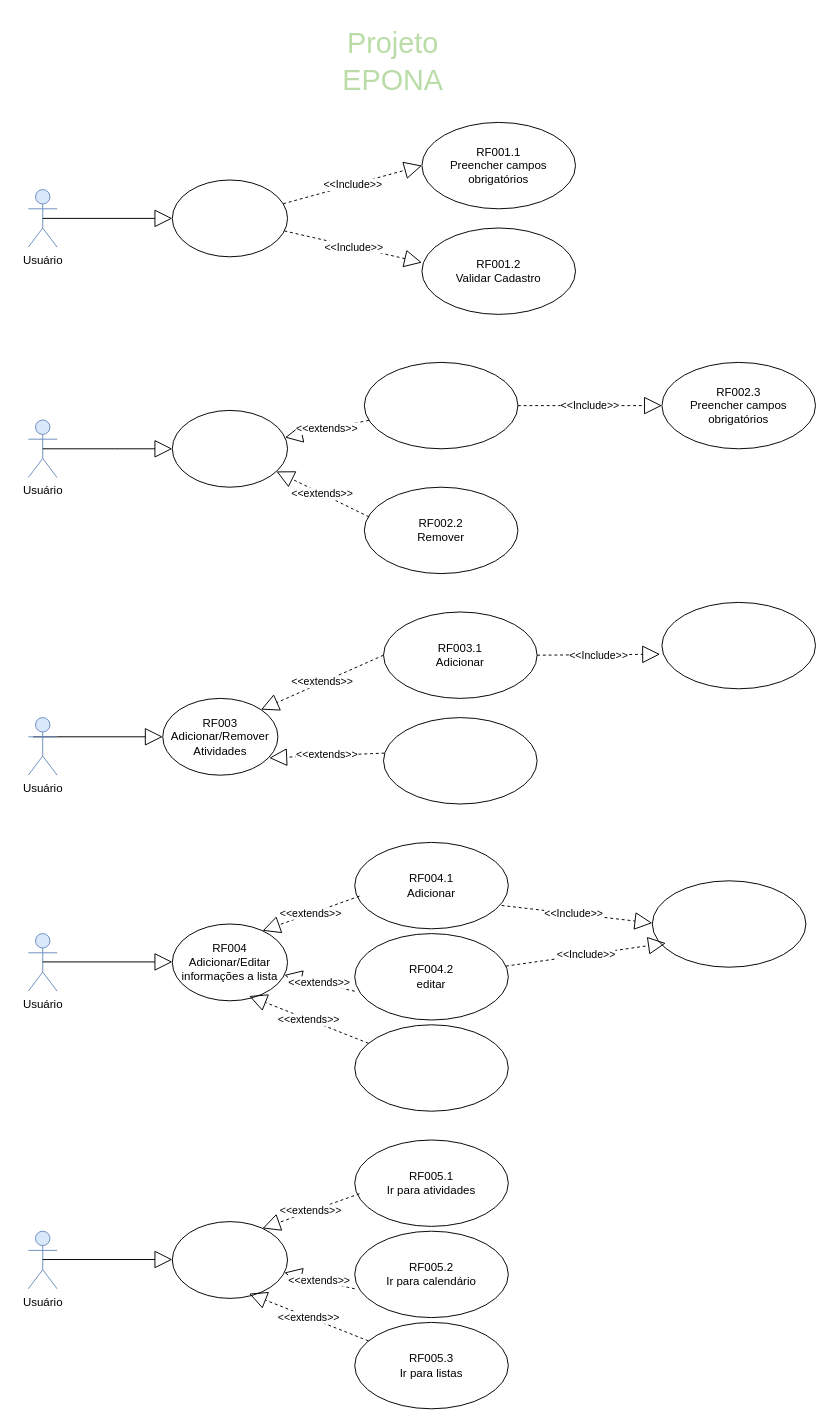
Some shapes in this 832 by 1426 pixel diagram are drawn without their labels. Each missing label, with the centre of its shape:
RF001 Cadastrar-se: point 229,218
RF002 Adicionar lembretes no calendário: point 229,448
RF002.1 Adicionar: point 440,405
RF003.2 Remover: point 460,760
RF003.3 Preencher campos obrigatórios: point 738,645
RF004.3 Remover: point 431,1067
RF004.4 Preencher campos obrigatórios: point 728,923
RF005 Escolher uma opção do menu: point 229,1259
